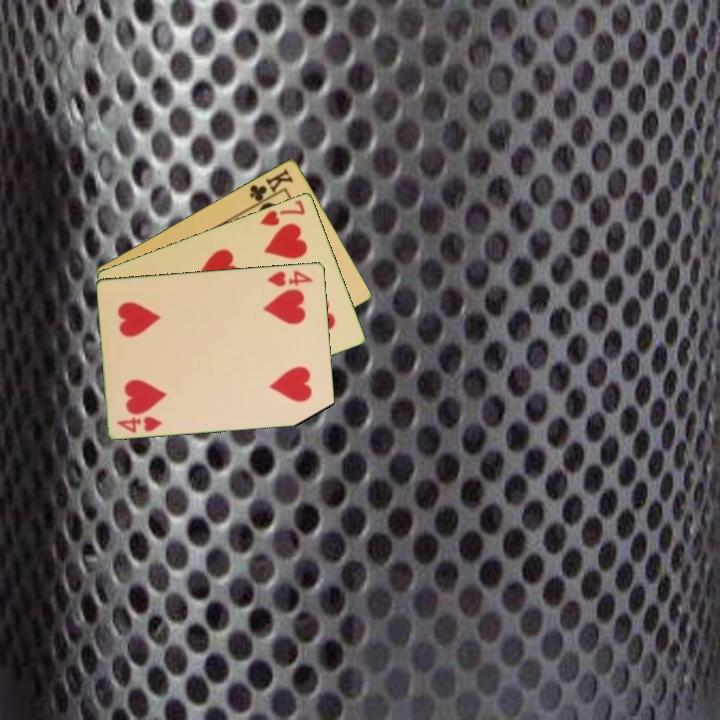4h: (264, 266, 316, 289), (114, 412, 165, 435)
7h: (256, 196, 308, 229)
Kc: (246, 165, 297, 208)
